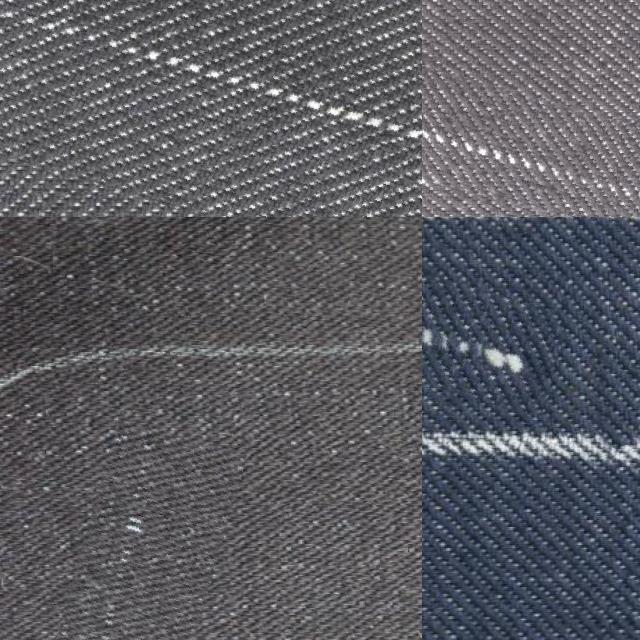Thread_other: (53, 424, 226, 640), (422, 71, 640, 217), (422, 230, 565, 391)
